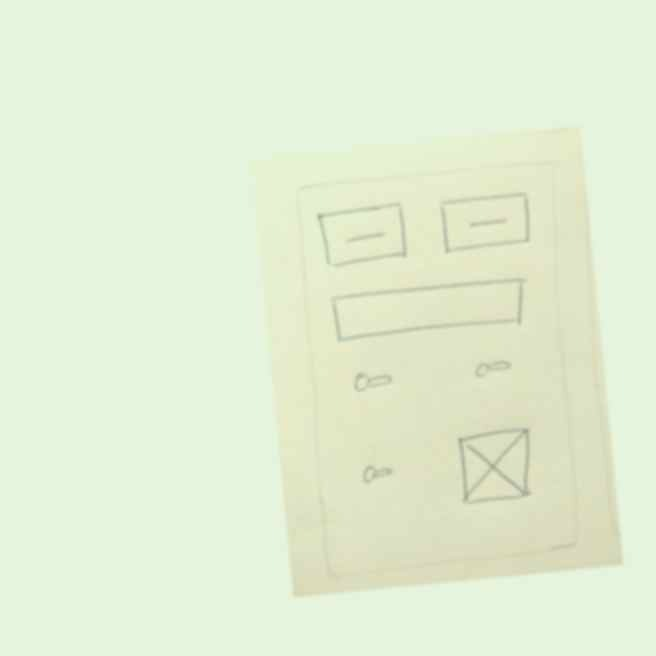button: (429, 183, 538, 266), (310, 196, 415, 273)
image: (450, 421, 543, 513)
switch: (339, 359, 406, 399)
text_input: (321, 267, 535, 352), (457, 353, 522, 386), (354, 453, 400, 491)
